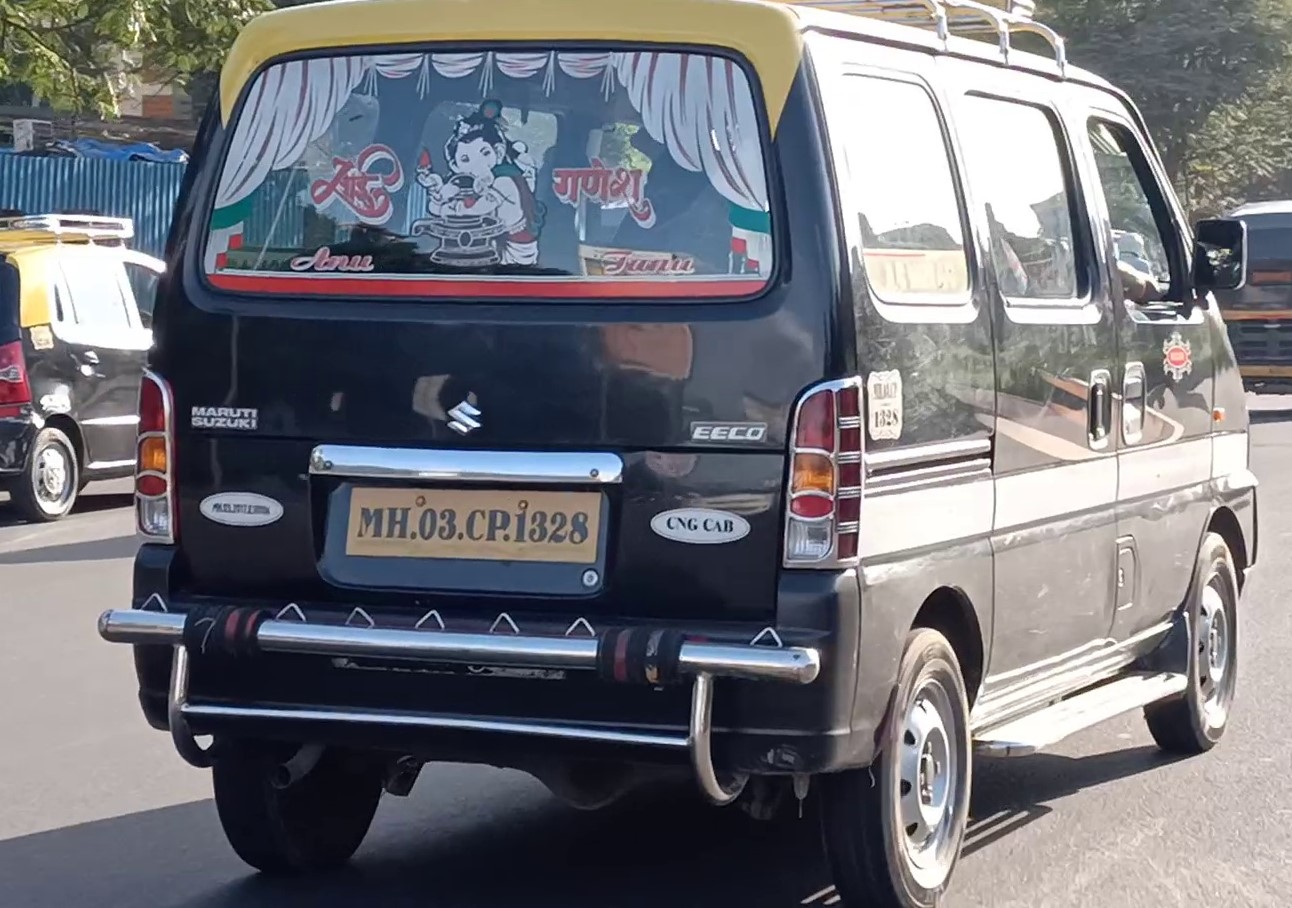MH03CP1328: (345, 488, 600, 561)
